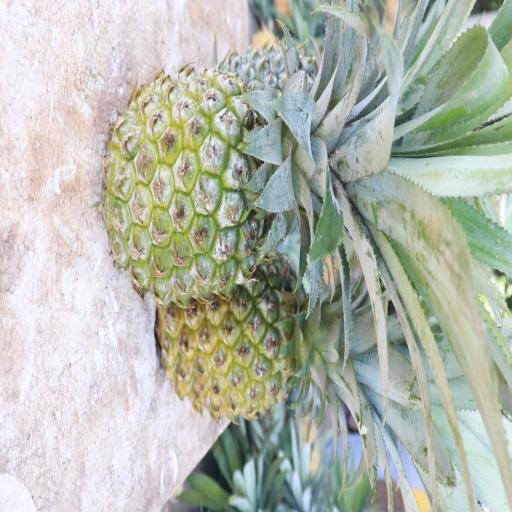------------------------------: (98, 56, 403, 315)
Pineapple - v8 v1: (149, 224, 385, 427)
